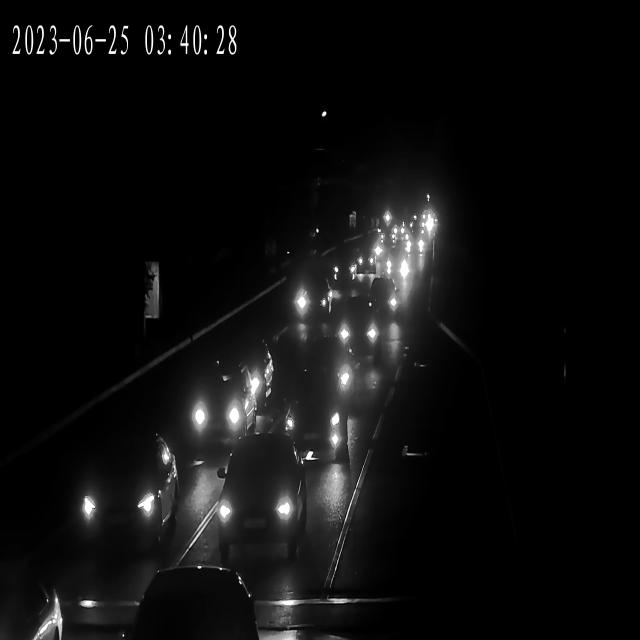Car: (80, 433, 177, 562), (212, 442, 301, 560), (137, 569, 257, 640), (282, 370, 348, 460), (0, 559, 62, 640), (193, 362, 250, 444), (308, 336, 362, 416), (228, 338, 273, 410), (332, 298, 382, 362), (292, 267, 333, 315), (375, 279, 401, 321), (385, 250, 411, 285), (332, 240, 356, 277), (366, 234, 392, 258), (356, 242, 376, 273), (402, 236, 425, 256), (389, 218, 405, 244), (408, 213, 428, 224)
